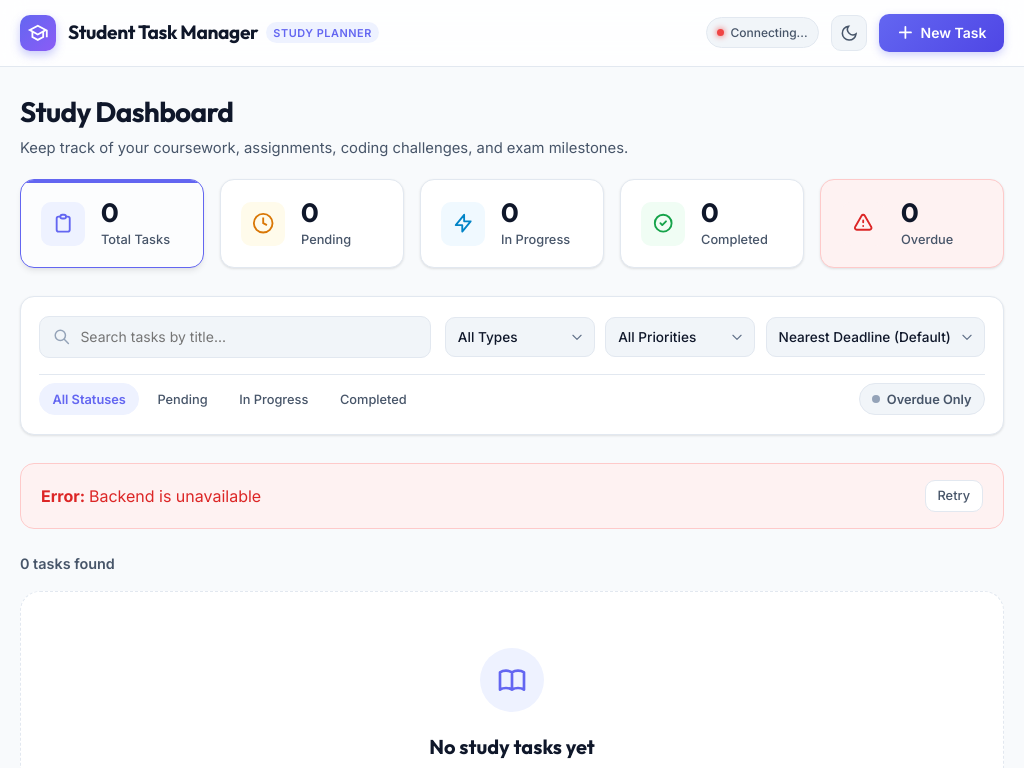
Test: App task list and dashboard › shows a backend load error and lets the user retry
Expected: the message shows "Backend is unavailable", [89,486,261,506]
Click the button "Retry" at (954, 496), box [924,480,983,512]
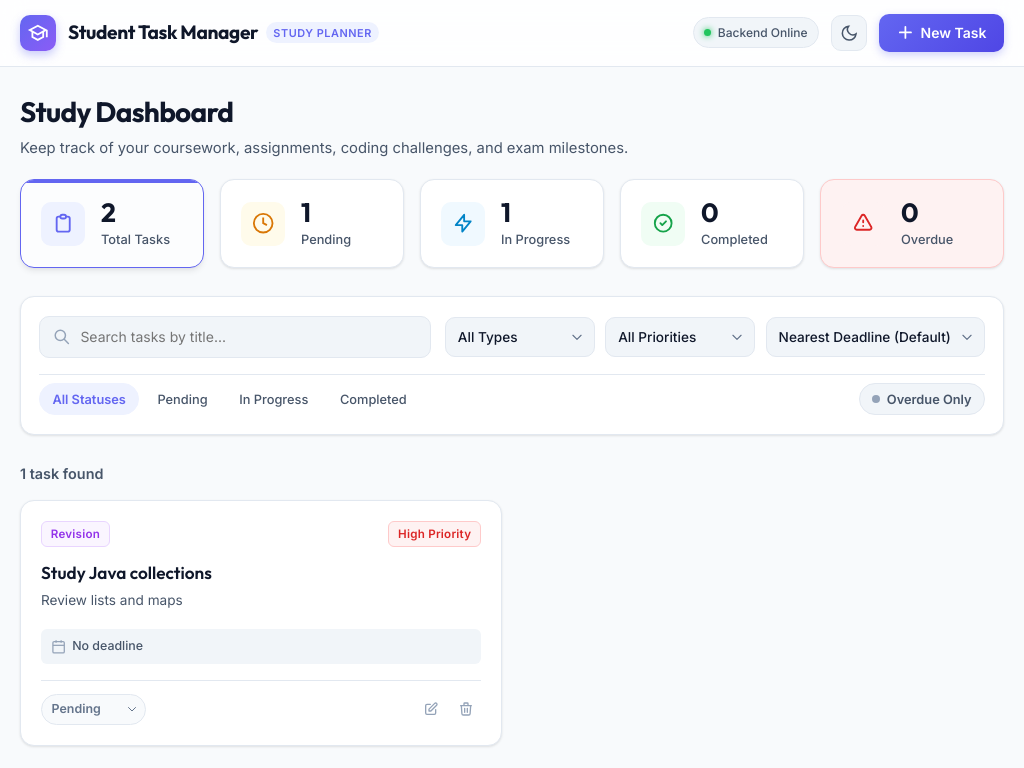
Result: the heading "Study Java collections" is shown at [41,562,212,583]
